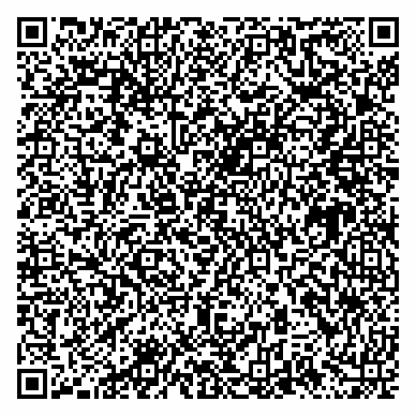qr: (13, 14, 403, 405)
